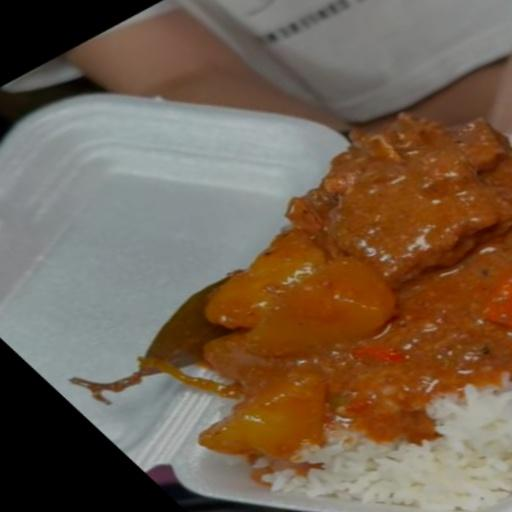pork caldereta: (207, 104, 511, 455)
